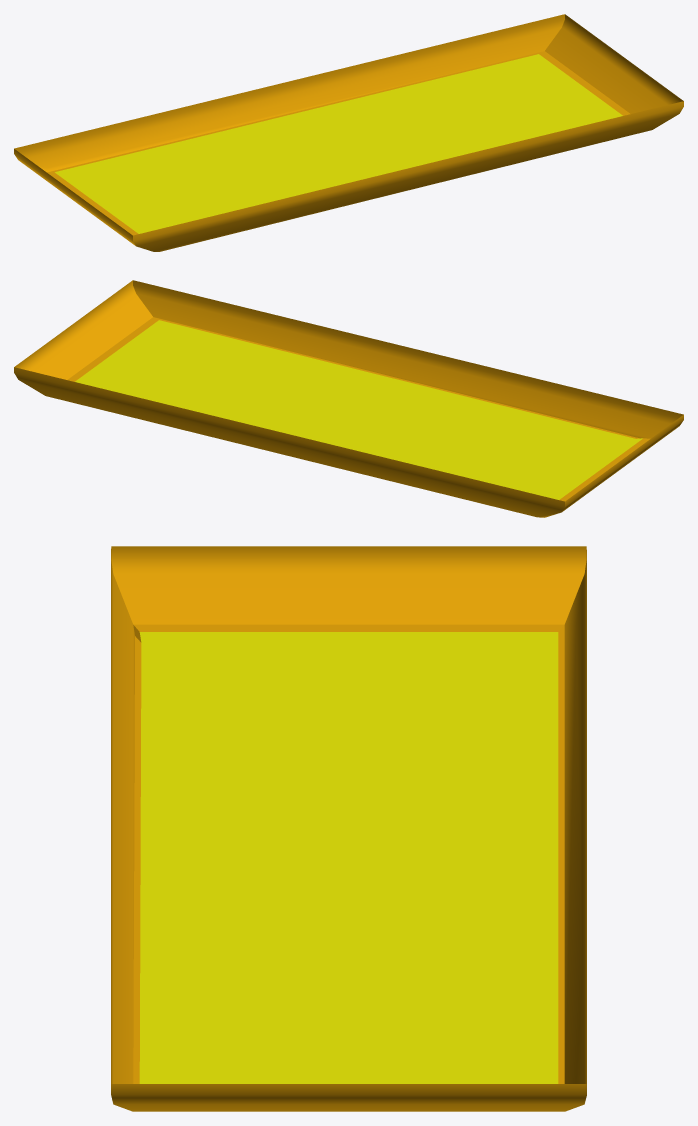
The model's file is SetoFloor3Light.fbx.
The picture shows the model from 3 angles, top to bottom: view 1: azimuth 30°, elevation 25°; view 2: azimuth 150°, elevation 25°; view 3: azimuth 270°, elevation 25°; orthographic projection. The views are drawn at different scales.
Visible parts, largest first — view 1: Floor3Light; view 2: Floor3Light; view 3: Floor3Light.
Boxes of the visible parts, bbox=[...] form: Floor3Light: bbox=[14, 14, 683, 251]; Floor3Light: bbox=[14, 280, 683, 517]; Floor3Light: bbox=[111, 546, 586, 1111].
Bounding box in the file's own units: 198 × 9.84 × 73.93.
